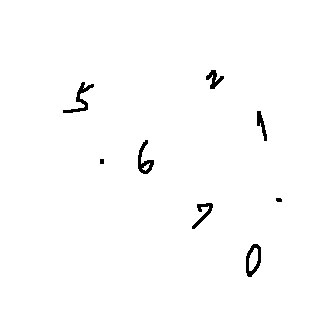.: (267, 191, 288, 209), (97, 155, 110, 171)
0: (237, 237, 266, 284)
1: (245, 105, 282, 143)
2: (201, 64, 233, 92)
5: (57, 77, 101, 118)
6: (125, 137, 170, 179)
7: (181, 199, 225, 234)
